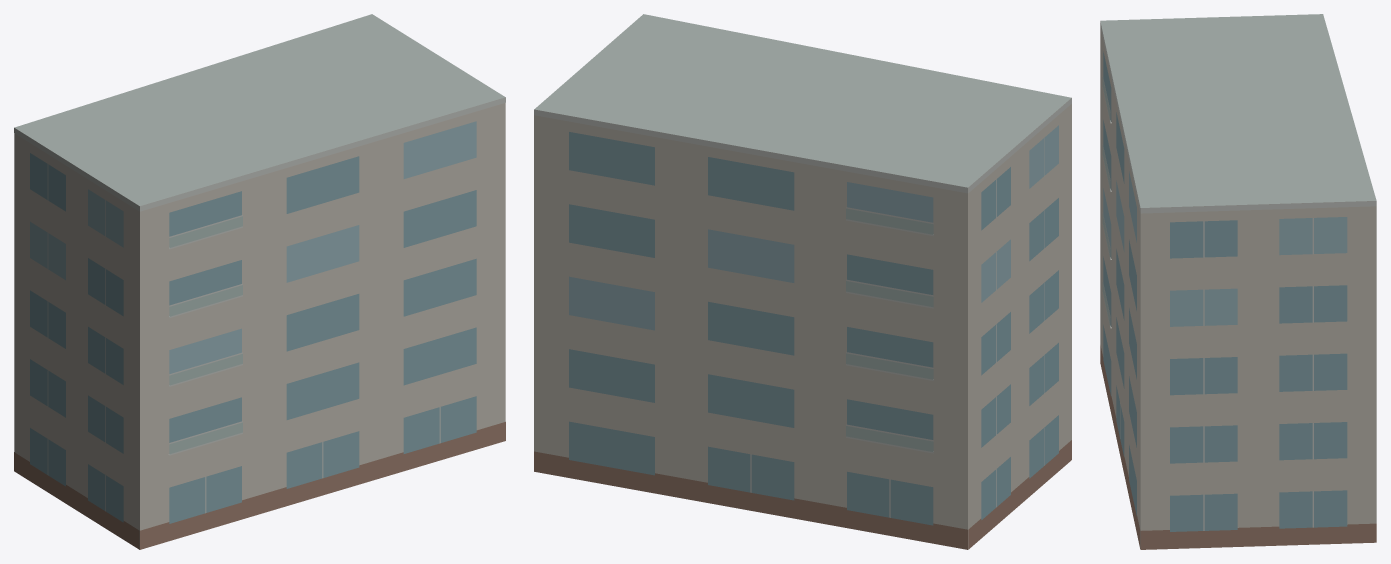
The model's file is survey-upis-32578674.glb.
The picture shows the model from 3 angles, left to right: view 1: azimuth 30°, elevation 25°; view 2: azimuth 150°, elevation 25°; view 3: azimuth 270°, elevation 25°; orthographic projection. The views are drawn at different scales.
Parts seen in each view (by area): view 1: survey-upis-32578674.tmp; view 2: survey-upis-32578674.tmp; view 3: survey-upis-32578674.tmp.
Boxes of the visible parts, box(x1,y1,x2,y2) form: survey-upis-32578674.tmp: box(14, 14, 505, 549); survey-upis-32578674.tmp: box(534, 14, 1071, 549); survey-upis-32578674.tmp: box(1100, 14, 1376, 549).
Bounding box in the file's own units: 18.58 × 15.25 × 11.18.
